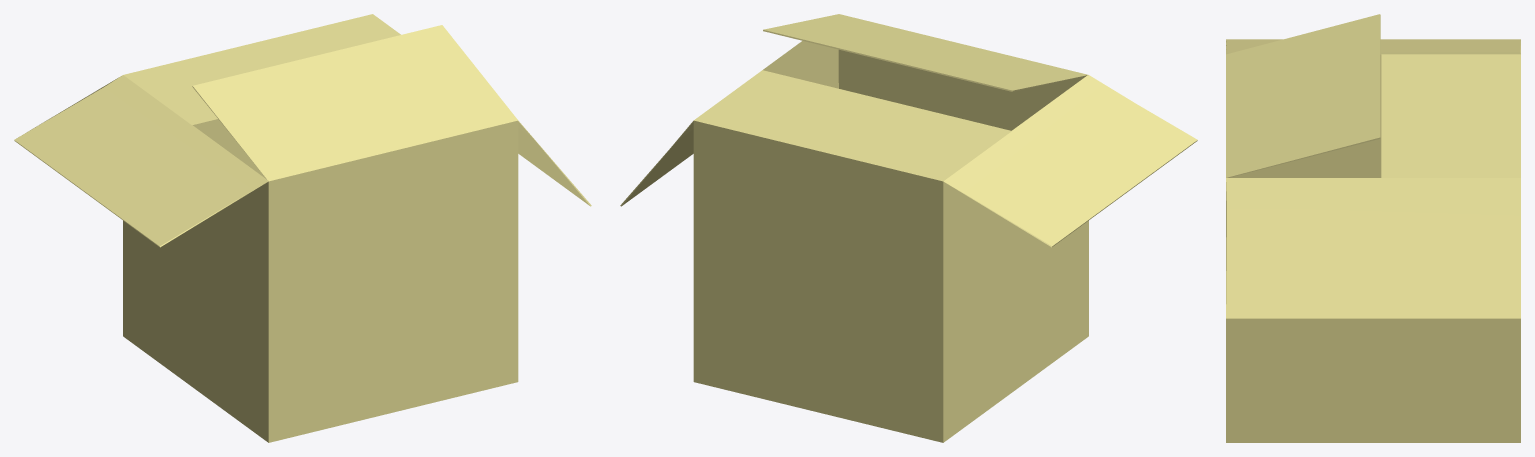
File: SM_CardboardBox_003.fbx
3 views of the same model, side by side, from view 1: azimuth 30°, elevation 25°; view 2: azimuth 150°, elevation 25°; view 3: azimuth 270°, elevation 25° (orthographic).
Visible parts, largest first — view 1: Cardboard_Box_003; view 2: Cardboard_Box_003; view 3: Cardboard_Box_003.
Boxes of the visible parts, box(x1,y1,x2,y2) form: Cardboard_Box_003: box(14, 14, 591, 442); Cardboard_Box_003: box(620, 14, 1197, 442); Cardboard_Box_003: box(1226, 14, 1520, 442).
Bounding box in the file's own units: 72 × 48 × 42.
